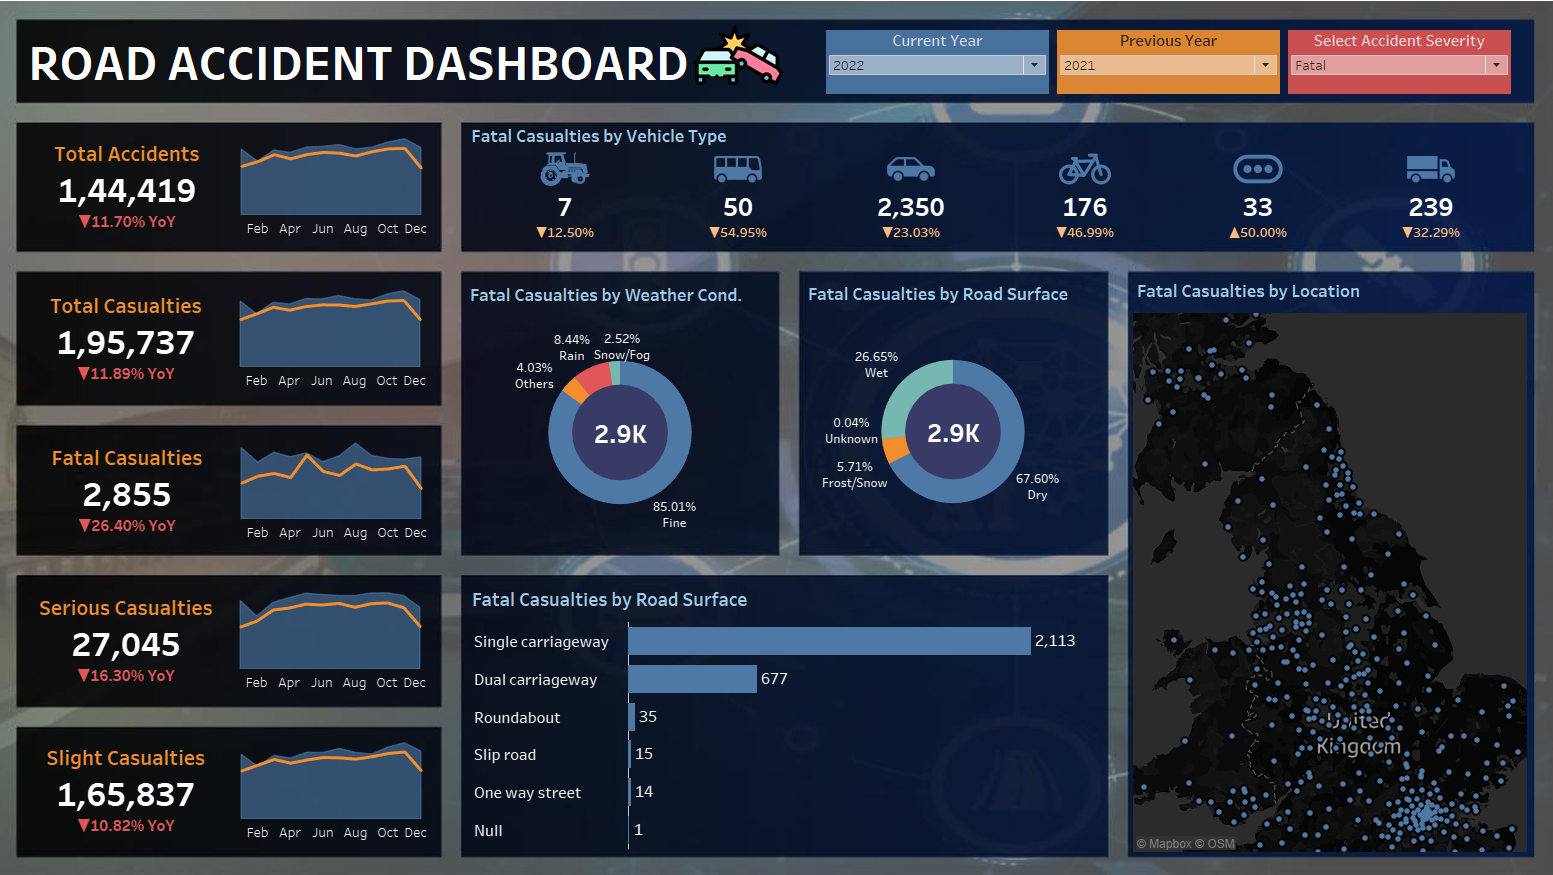

This screenshot's page, from the dashboard's own definition file:
{"tool":"tableau","page":{"name":"Dashboard 1","canvas":[1600,900],"ordinal":0},"visuals":[{"type":"image","param":"C:/Users/itsab/OneDrive/Desktop/CTTC (DA)/Project/Background.pptx.jpg","box":[8,8,1584,884]},{"type":"image","param":"C:/Users/itsab/Downloads/accident.png","box":[706,21,111,90]},{"type":"text","box":[48,33,677,77]},{"type":"parameter","param":"[Parameters].[Parameter 1]","box":[845,37,231,72]},{"type":"parameter","param":"[Parameters].[Current Year (copy)_-4043950944044052479]","box":[1076,37,231,72]},{"type":"parameter","param":"[Parameters].[Parameter 2]","box":[1307,37,231,72]},{"type":"text","box":[491,135,465,22]},{"type":"worksheet","title":"Total Accidents","mark":"Automatic","box":[47,142,205,110]},{"type":"worksheet","title":"Accidents Sparkline","mark":"Automatic","rows":["CY Accidents (copy)_-4043950944043098109","Calculation_-4043950944043773950"],"cols":["Accident Date"],"box":[252,142,205,110]},{"type":"worksheet","title":"Vehicle Type Images","mark":"Shape","box":[497,158,1048,40]},{"type":"worksheet","title":"Vehicle Type KPIs","mark":"Automatic","box":[497,198,1048,60]},{"type":"worksheet","title":"By Location","mark":"Automatic","rows":["Latitude"],"cols":["Longitude"],"box":[1156,285,394,578]},{"type":"worksheet","title":"Road Surface","mark":"Pie","rows":["Calculation_-2571836815648325631","Calculation_-2571836815648276477"],"box":[827,288,298,270]},{"type":"worksheet","title":"Weather Condition","mark":"Pie","rows":["Calculation_-2571836815648325631","Calculation_-2571836815648276477"],"box":[489,289,308,270]},{"type":"worksheet","title":"Total Casualties ","mark":"Automatic","box":[46,294,205,110]},{"type":"worksheet","title":"Total Casualties Sparkline","mark":"Automatic","rows":["CY Casualties (copy)_-4043950944036745210","Calculation_-4043950944037294075"],"cols":["Accident Date"],"box":[251,294,205,110]},{"type":"worksheet","title":"Fatal Casualties","mark":"Automatic","box":[47,446,205,110]},{"type":"worksheet","title":"Fatal Casualties Sparkline","mark":"Automatic","rows":["CY Fatal Casualties (copy)_-4043950944035180535","Calculation_-4043950944035872760"],"cols":["Accident Date"],"box":[252,446,205,110]},{"type":"worksheet","title":"Road Type","mark":"Automatic","rows":["Road_Type"],"cols":["Calculation_-4043950944037294075"],"box":[491,593,632,267]},{"type":"worksheet","title":"Serious Casualties","mark":"Automatic","box":[46,596,205,110]},{"type":"worksheet","title":"Serious Casualties Sparkline ","mark":"Automatic","rows":["CY Serious Casualties (copy)_-4043950944030769140","CY Fatal Casualties (copy)_-4043950944031105013"],"cols":["Accident Date"],"box":[251,596,205,110]},{"type":"worksheet","title":"Slight Casualties","mark":"Automatic","box":[47,746,205,110]},{"type":"worksheet","title":"Slight Casualties Sparkline ","mark":"Automatic","rows":["CY Slight Casualties  (copy)_-4043950944029974513","CY Fatal Casualties (copy)_-4043950944030207986"],"cols":["Accident Date"],"box":[252,746,205,110]}]}

Visuals, with their boxes in screenshot pixels (x1, y1, x2, y2), scaled from the page's 1600x900 canvas onto the 1553x875 screenshot:
image: 8, 8, 1545, 867
image: 685, 20, 793, 108
text: 47, 32, 704, 107
parameter: 820, 36, 1044, 106
parameter: 1044, 36, 1269, 106
parameter: 1269, 36, 1493, 106
text: 477, 131, 928, 153
"Total Accidents" worksheet: 46, 138, 245, 245
"Accidents Sparkline" worksheet: 245, 138, 444, 245
"Vehicle Type Images" worksheet (Shape marks): 482, 154, 1500, 192
"Vehicle Type KPIs" worksheet: 482, 192, 1500, 251
"By Location" worksheet: 1122, 277, 1504, 839
"Road Surface" worksheet (Pie marks): 803, 280, 1092, 542
"Weather Condition" worksheet (Pie marks): 475, 281, 774, 543
"Total Casualties " worksheet: 45, 286, 244, 393
"Total Casualties Sparkline" worksheet: 244, 286, 443, 393
"Fatal Casualties" worksheet: 46, 434, 245, 541
"Fatal Casualties Sparkline" worksheet: 245, 434, 444, 541
"Road Type" worksheet: 477, 577, 1090, 836
"Serious Casualties" worksheet: 45, 579, 244, 686
"Serious Casualties Sparkline " worksheet: 244, 579, 443, 686
"Slight Casualties" worksheet: 46, 725, 245, 832
"Slight Casualties Sparkline " worksheet: 245, 725, 444, 832
